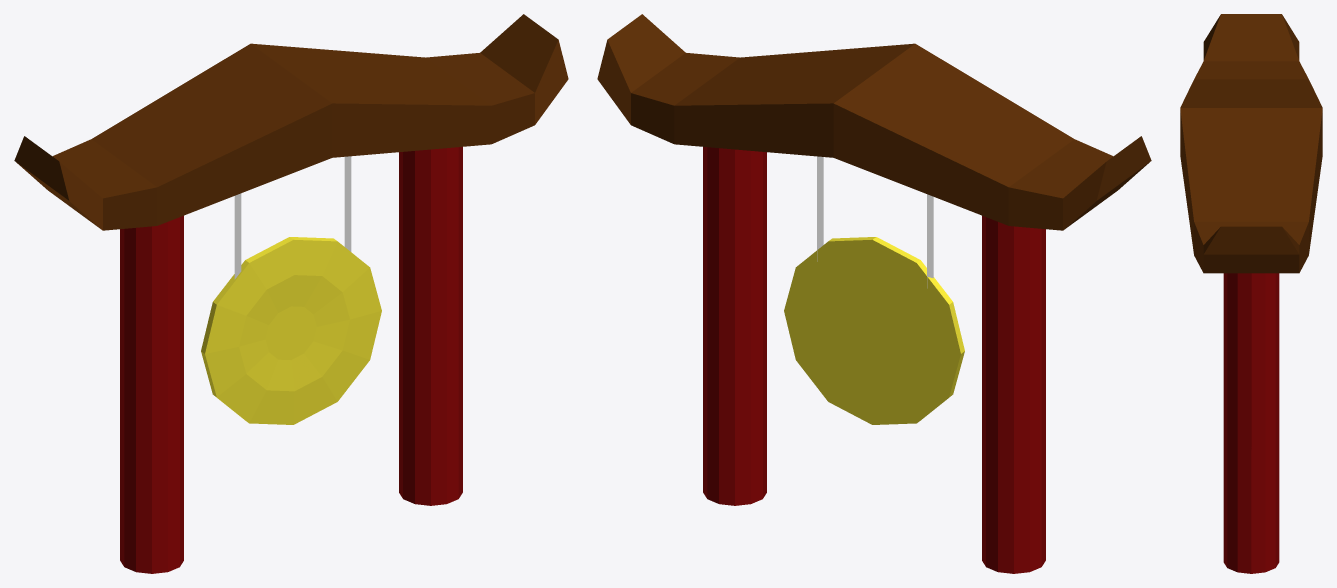
Rendered from gong.fbx.
The picture shows the model from 3 angles, left to right: view 1: azimuth 30°, elevation 25°; view 2: azimuth 150°, elevation 25°; view 3: azimuth 270°, elevation 25°; orthographic projection. The views are drawn at different scales.
Parts seen in each view (by area): view 1: Cube.006, Cylinder, Cylinder.001, Cylinder.003; view 2: Cube.006, Cylinder, Cylinder.001; view 3: Cube.006, Cylinder.
Boxes of the visible parts, x1,y1,x2,y2 form: Cube.006: [14, 14, 568, 230]; Cylinder: [120, 147, 462, 573]; Cylinder.001: [201, 237, 381, 424]; Cylinder.003: [344, 156, 351, 251]; Cube.006: [597, 14, 1151, 230]; Cylinder: [703, 147, 1045, 573]; Cylinder.001: [784, 237, 964, 424]; Cube.006: [1180, 14, 1322, 273]; Cylinder: [1223, 273, 1279, 573].
Bounding box in the file's own units: 409 × 354 × 116.
